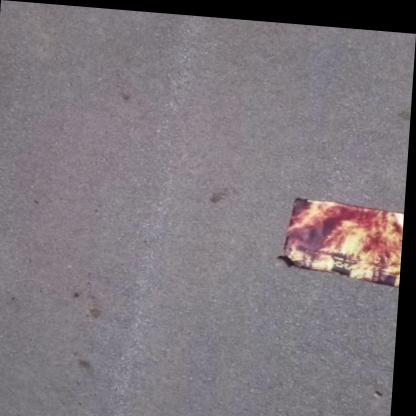fire-poster: (278, 190, 406, 283)
